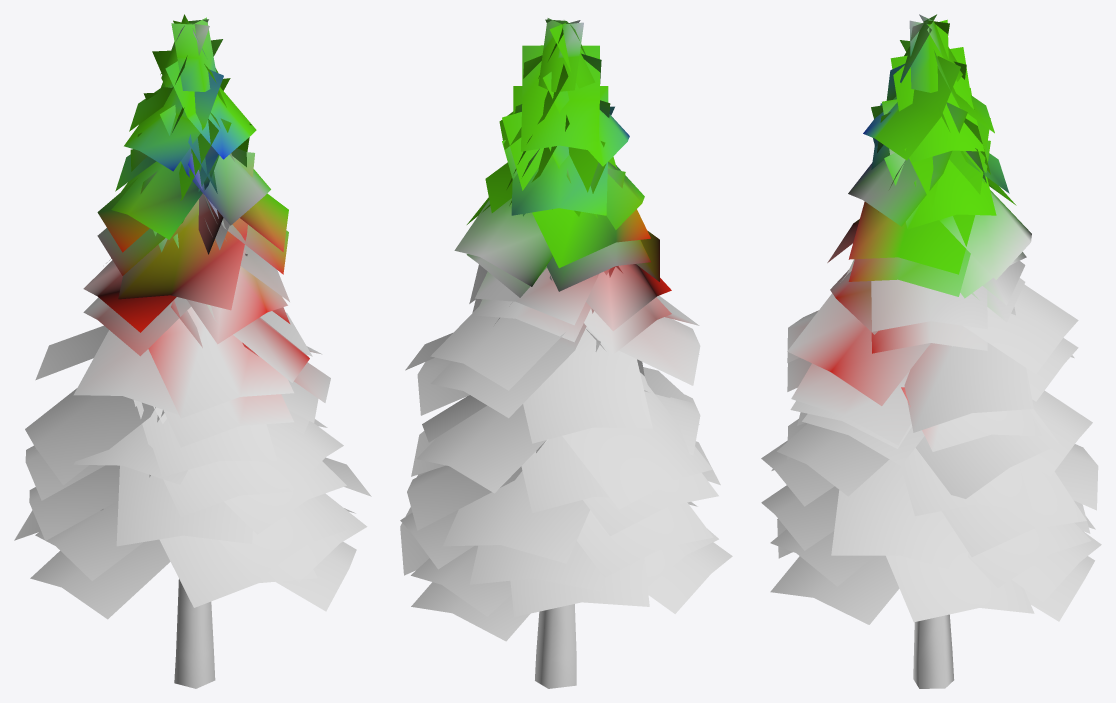
File: hugetree.fbx
3 views of the same model, side by side, from view 1: azimuth 30°, elevation 25°; view 2: azimuth 150°, elevation 25°; view 3: azimuth 270°, elevation 25° (orthographic).
Visible parts, largest first — view 1: singletree; view 2: singletree; view 3: singletree.
Part boxes in pixels (x1,y1,x2,y2): singletree: (14,14,371,688); singletree: (400,18,732,688); singletree: (761,14,1101,688).
Size of the model in its own units: 1197 by 2427 by 1138.
